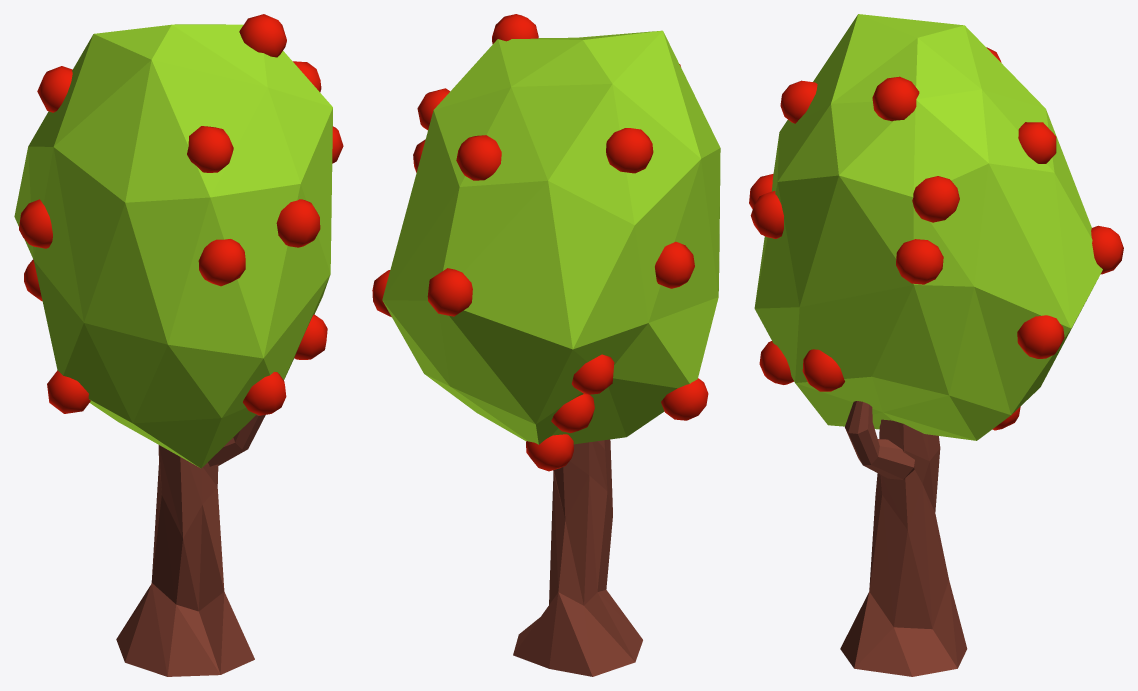
The model's file is object_landscape_plant_tree_fruit.glb.
3 views of the same model, side by side, from view 1: azimuth 30°, elevation 25°; view 2: azimuth 150°, elevation 25°; view 3: azimuth 270°, elevation 25° (orthographic). The views are drawn at different scales.
Parts seen in each view (by area): view 1: object_landscape_plant_tree_fruit; view 2: object_landscape_plant_tree_fruit; view 3: object_landscape_plant_tree_fruit.
Part boxes in pixels (<box>): object_landscape_plant_tree_fruit: <box>14,14,343,676</box>; object_landscape_plant_tree_fruit: <box>372,14,720,676</box>; object_landscape_plant_tree_fruit: <box>749,14,1123,676</box>.
Bounding box in the file's own units: 0.3271 × 0.6539 × 0.3662.
